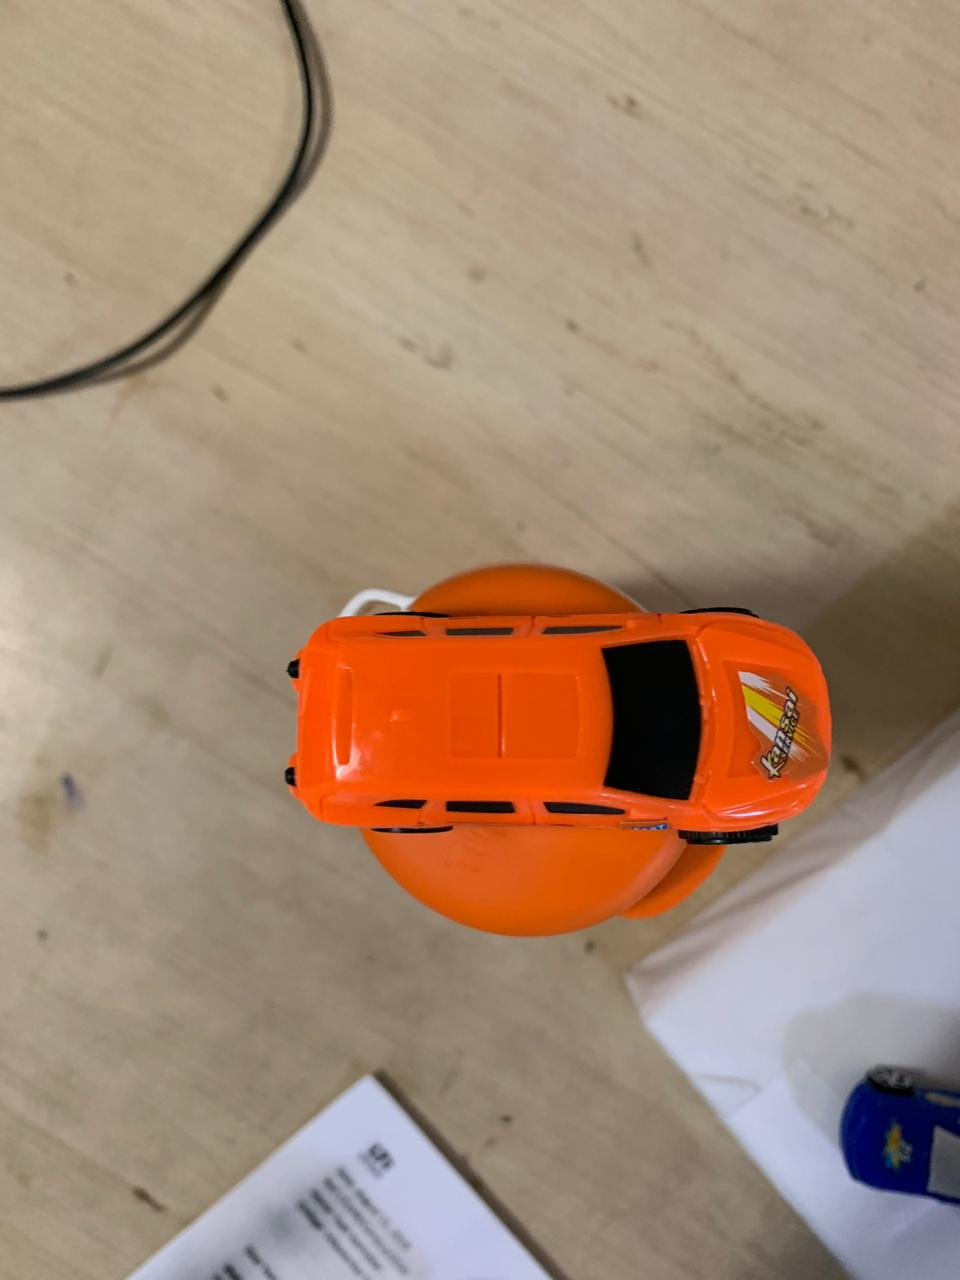car: (284, 622, 836, 834)
